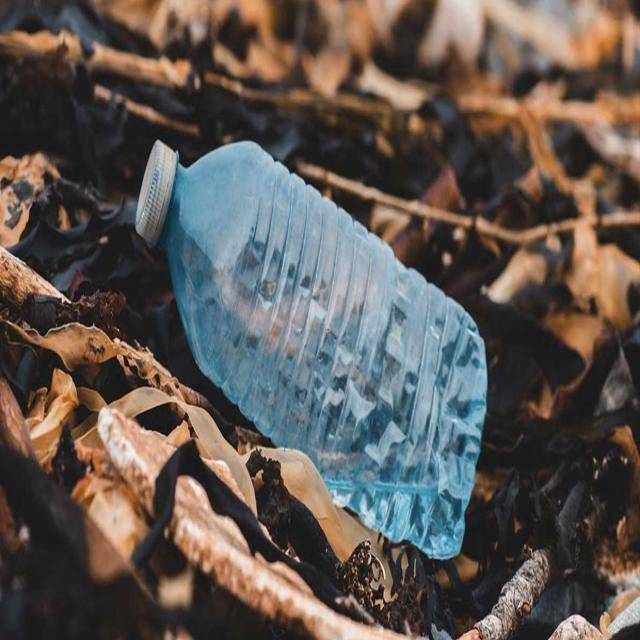plastic bottle: (163, 142, 488, 559)
plastic bottle cap: (134, 138, 176, 246)
